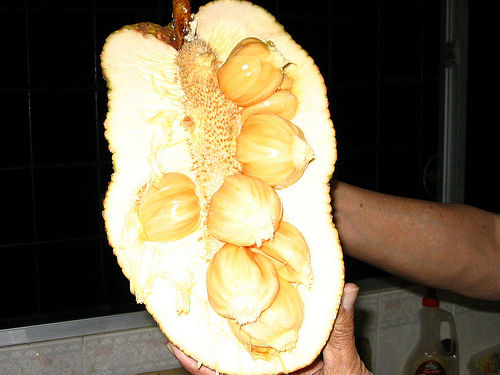jackfruit: (93, 0, 345, 374)
